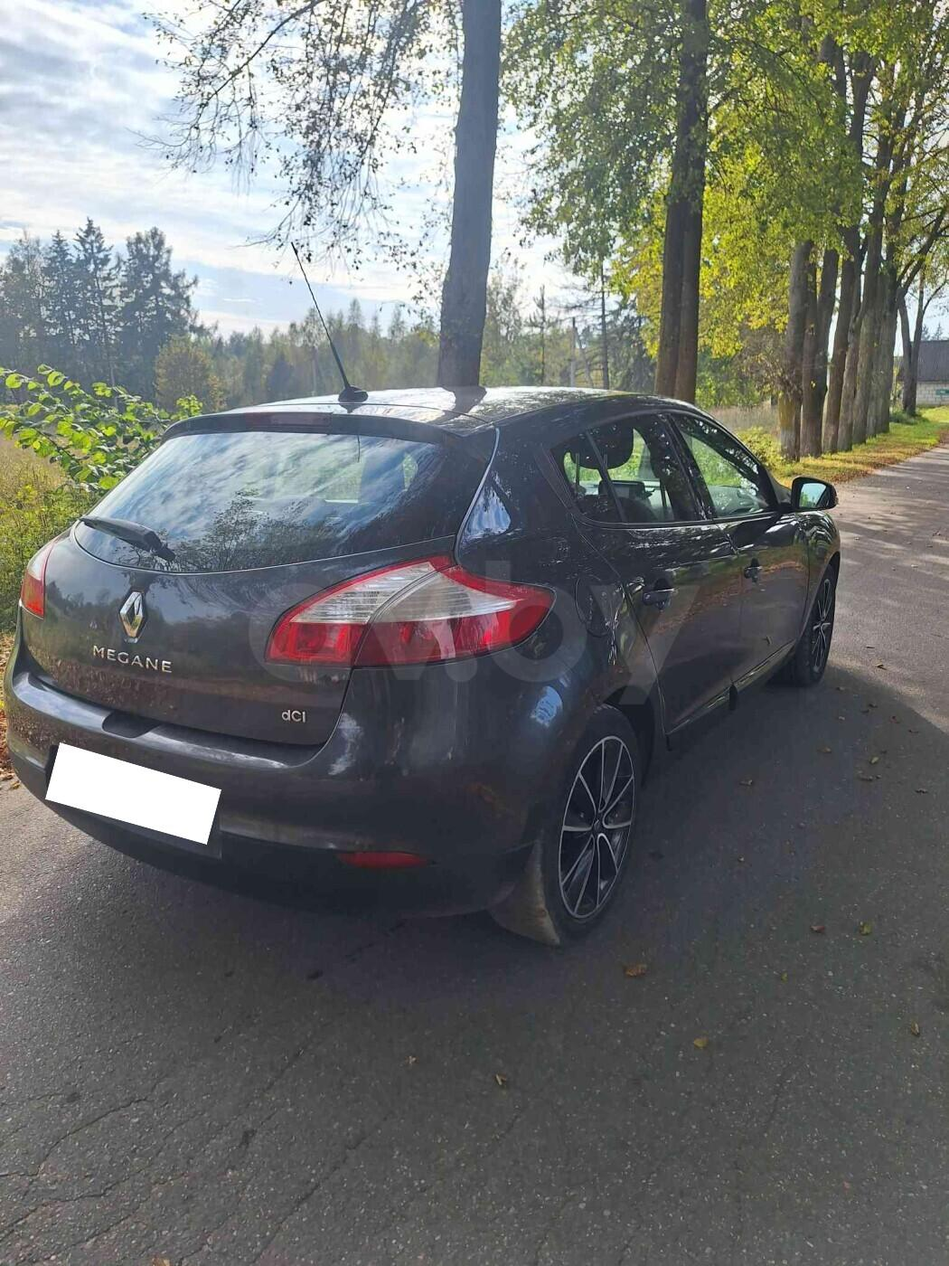Megane_2012-2014: (4, 382, 850, 955)
